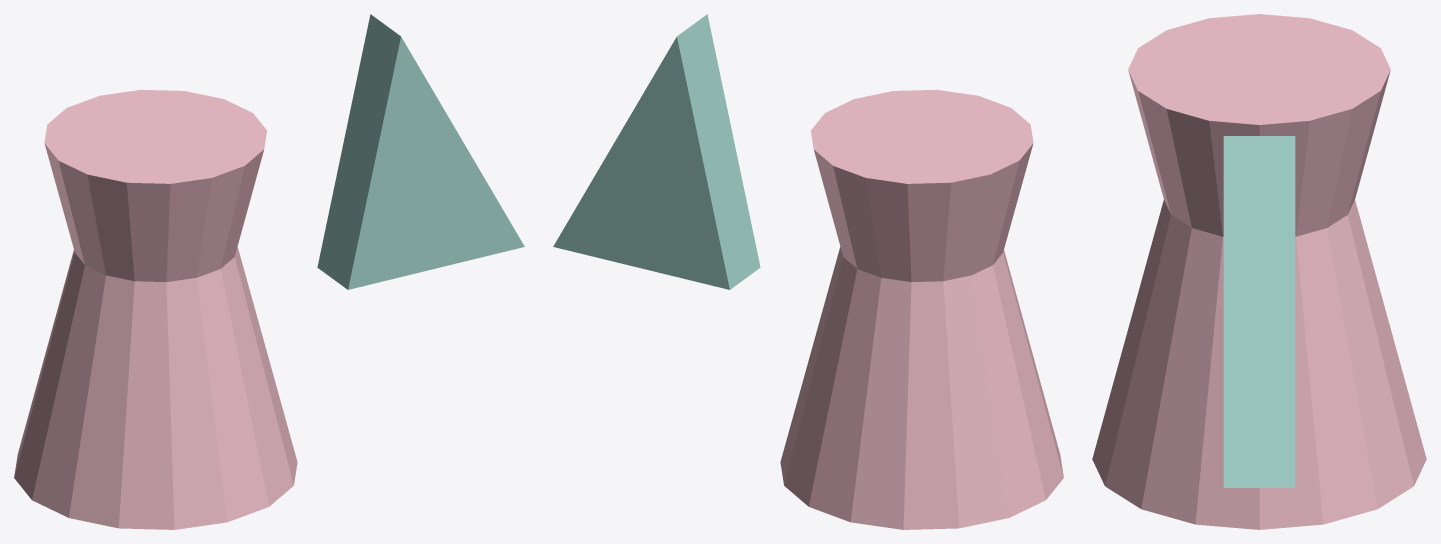
The picture shows the model from 3 angles, left to right: view 1: azimuth 30°, elevation 25°; view 2: azimuth 150°, elevation 25°; view 3: azimuth 270°, elevation 25°; orthographic projection. The views are drawn at different scales.
Visible parts, largest first — view 1: vase, fin; view 2: vase, fin; view 3: vase, fin.
Part boxes in pixels (x1,y1,x2,y2): vase: (14, 89, 297, 529); fin: (317, 14, 524, 289); vase: (780, 89, 1063, 529); fin: (553, 14, 760, 289); vase: (1092, 14, 1426, 529); fin: (1223, 136, 1295, 487).
Bounding box in the file's own units: 2.7 × 2.3 × 1.4.
